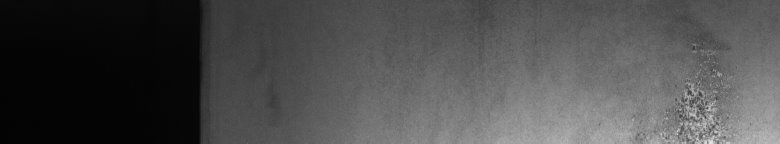hc: (637, 37, 732, 136)
